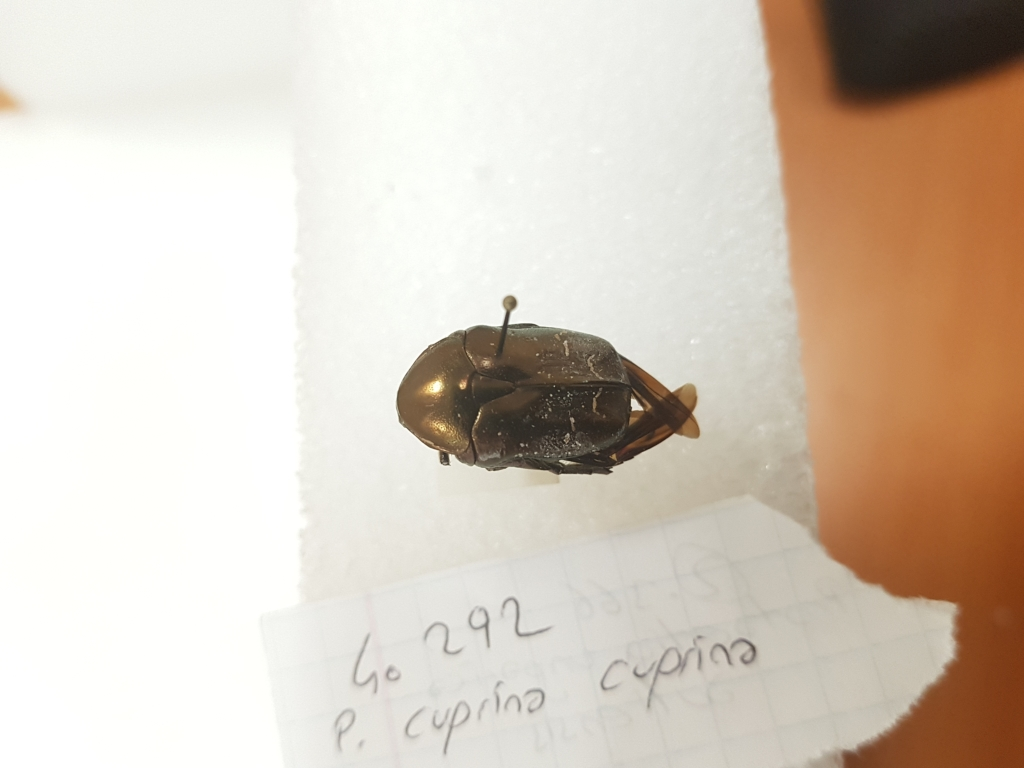Protaetia_cuprina_cuprina: (385, 307, 715, 478)
